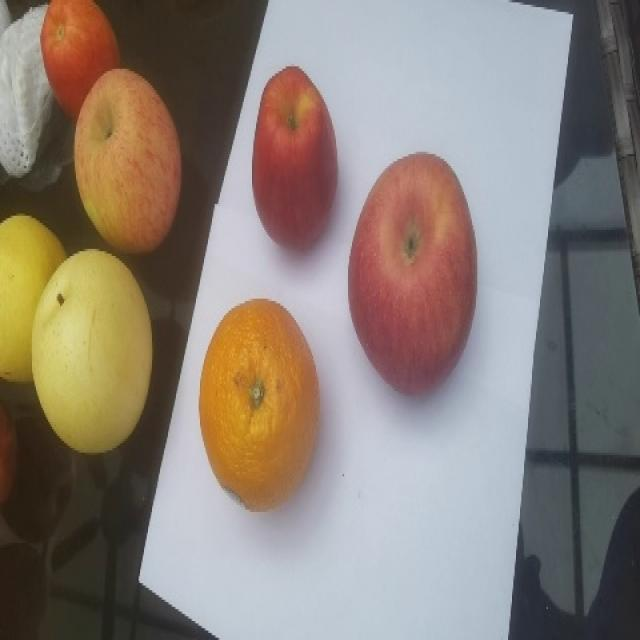Apple: (347, 151, 481, 398), (71, 68, 186, 251), (248, 66, 348, 253), (37, 0, 135, 114)
Orange: (197, 294, 324, 514)
